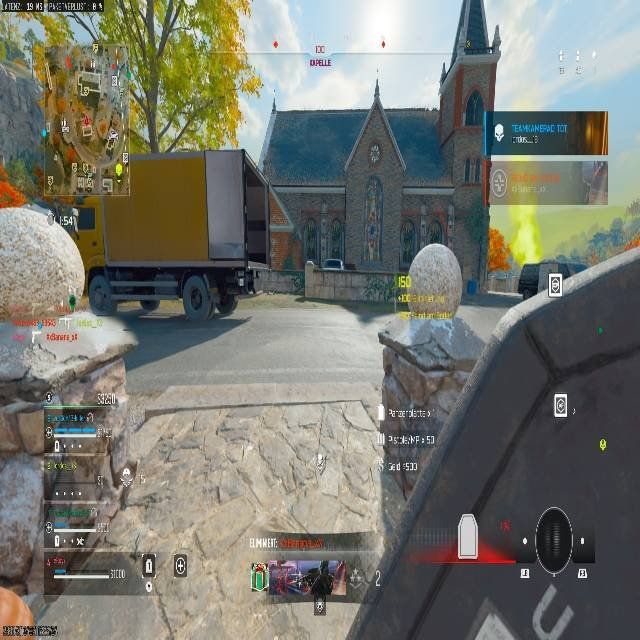head: (399, 243, 464, 318)
player: (306, 562, 334, 616)
